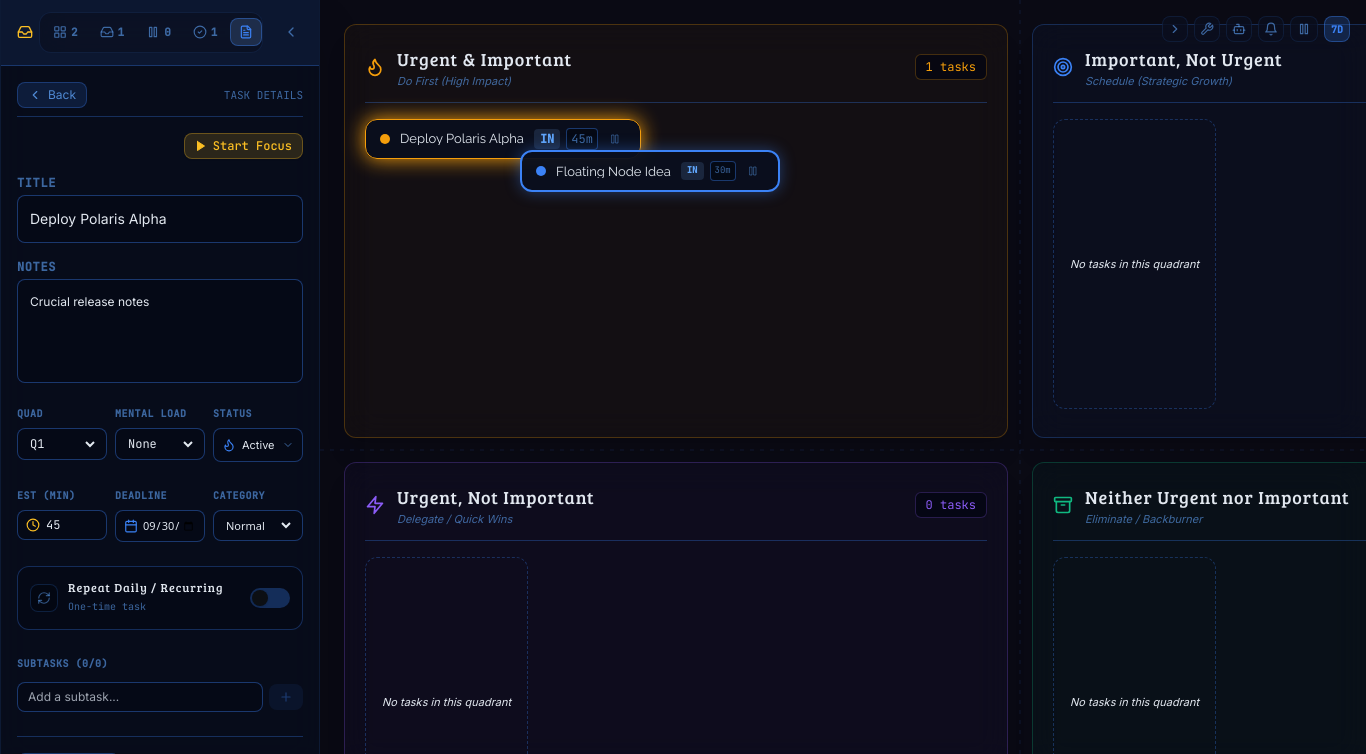
Scenario: MatrixCanvasView › opens status dropdown inside details, selects a status, and calls update
Earlier steps of the test are not shown.
Later steps or results of the test are not shown.
Expected: the field showing "Deploy Polaris Alpha" is shown, [17,194,303,243]
Click the button "Active" at (258, 445), box [213,428,303,462]
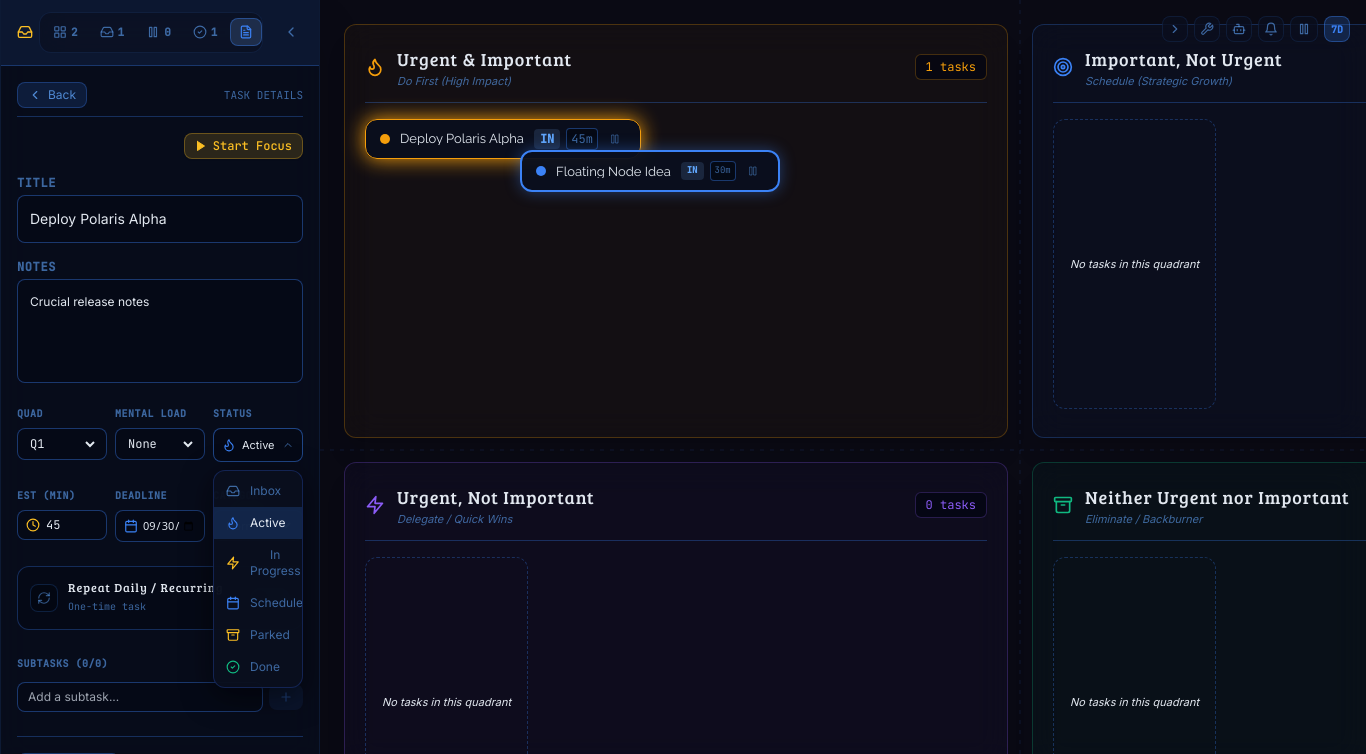
Now the text "In Progress" is shown, box [250,547,300,579]
